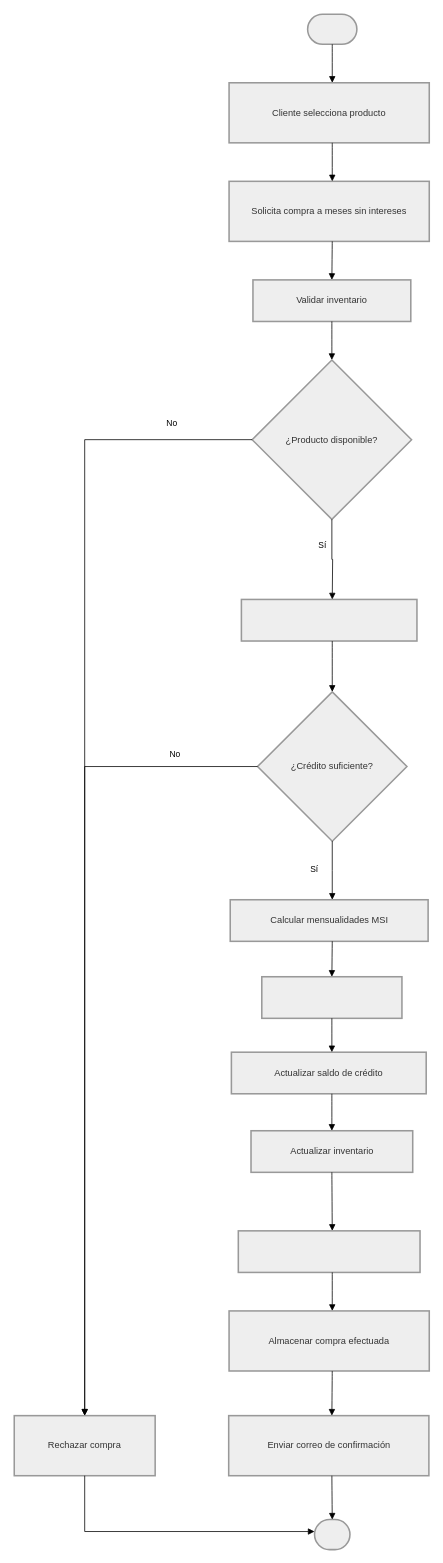
The diagram is 443 pixels wide and 1563 high, and some of its shapes have lost their labels. Each missing label, with the centre of its shape:
Fin: the point at 331,1534
Generar folio de compra: the point at 328,1251
Inicio: the point at 331,29
Registrar compra: the point at 331,997
Validar línea de crédito: the point at 328,619
